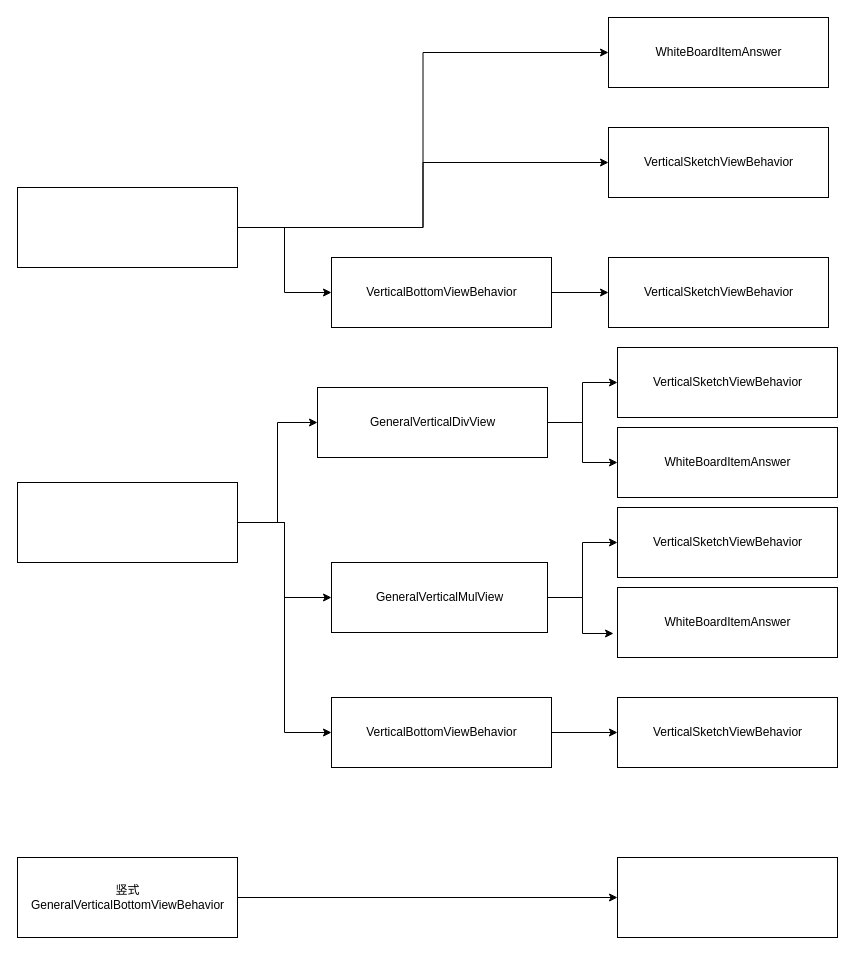
Some shapes in this 855 by 955 pixel diagram are drawn without their labels. Here are the shapes that lost their labels. From the top down, the box of each, then its label:
(16, 186, 238, 268): 竖式一步白板 GeneralVerticalOneStepViewBehavior
(16, 482, 238, 562): 竖式白板 GeneralVerticalViewBehavior
(616, 856, 838, 938): SketchViewBehavior
